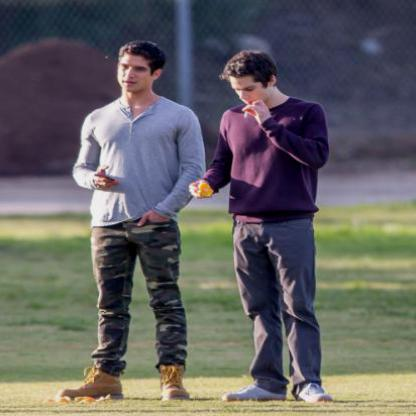cigarette: (241, 108, 250, 117)
person: (50, 38, 208, 402), (218, 42, 338, 408)
